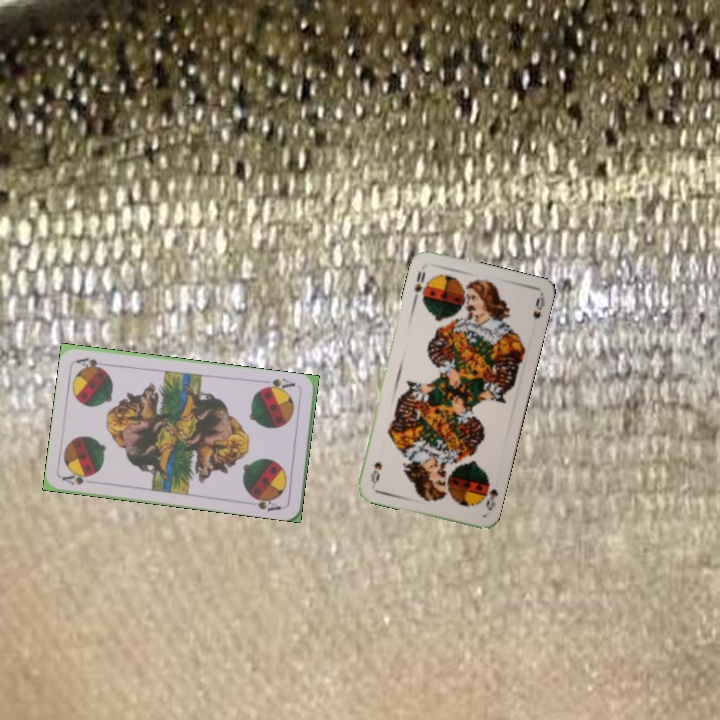SA: (260, 374, 298, 395), (59, 469, 99, 488)
SO: (479, 474, 501, 513), (409, 266, 429, 304)
